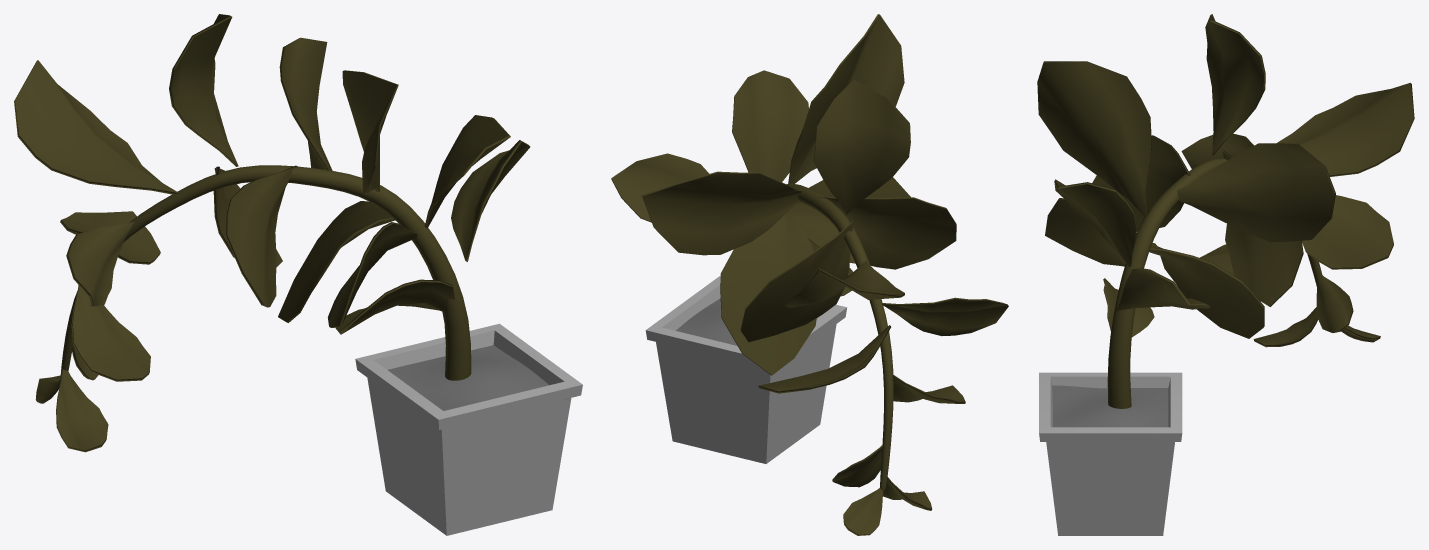
File: PR_Plant_Dead.fbx
The picture shows the model from 3 angles, left to right: view 1: azimuth 30°, elevation 25°; view 2: azimuth 150°, elevation 25°; view 3: azimuth 270°, elevation 25°; orthographic projection. The views are drawn at different scales.
Parts seen in each view (by area): view 1: PR_Leaves, PR_PlantPot, PR_Stem, PR_Dirt; view 2: PR_Leaves, PR_PlantPot, PR_Stem, PR_Dirt; view 3: PR_Leaves, PR_PlantPot, PR_Stem, PR_Dirt.
Part boxes in pixels (x1=…): PR_Leaves: x1=14, y1=14, x2=530, y2=452; PR_PlantPot: x1=355, y1=323, x2=582, y2=535; PR_Stem: x1=60, y1=165, x2=471, y2=380; PR_Dirt: x1=388, y1=345, x2=570, y2=410; PR_Leaves: x1=611, y1=14, x2=1008, y2=535; PR_PlantPot: x1=645, y1=276, x2=847, y2=463; PR_Stem: x1=787, y1=183, x2=893, y2=491; PR_Dirt: x1=676, y1=298, x2=821, y2=345; PR_Leaves: x1=1037, y1=14, x2=1414, y2=347; PR_PlantPot: x1=1039, y1=372, x2=1182, y2=535; PR_Stem: x1=1107, y1=158, x2=1322, y2=408; PR_Dirt: x1=1052, y1=385, x2=1168, y2=427.
Bounding box in the file's own units: 39.99 × 41.28 × 33.75.
